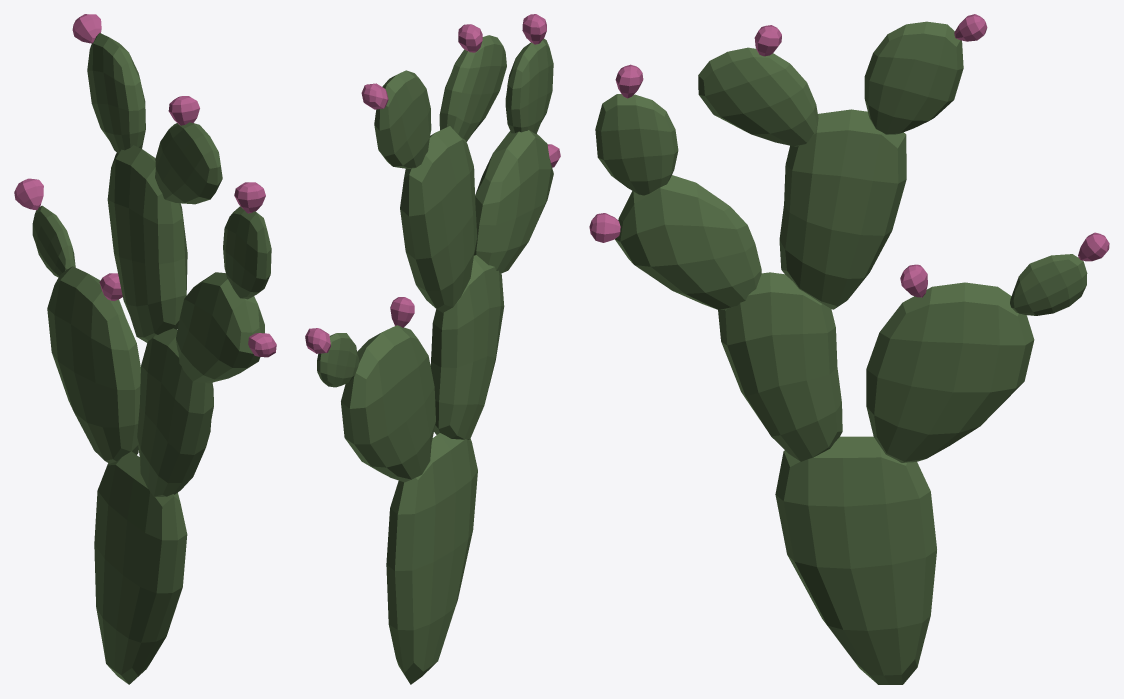
Rendered from cactusflowers_4.glb.
3 renders of one model, left to right at view 1: azimuth 30°, elevation 25°; view 2: azimuth 150°, elevation 25°; view 3: azimuth 270°, elevation 25°, orthographic. The views are drawn at different scales.
Parts seen in each view (by area): view 1: CactusFlowers_4; view 2: CactusFlowers_4; view 3: CactusFlowers_4.
Part boxes in pixels (x1,y1,x2,y2): CactusFlowers_4: (14,14,276,684); CactusFlowers_4: (305,14,560,684); CactusFlowers_4: (589,14,1109,684).
Bounding box in the file's own units: 0.2641 × 3.32 × 2.33.
